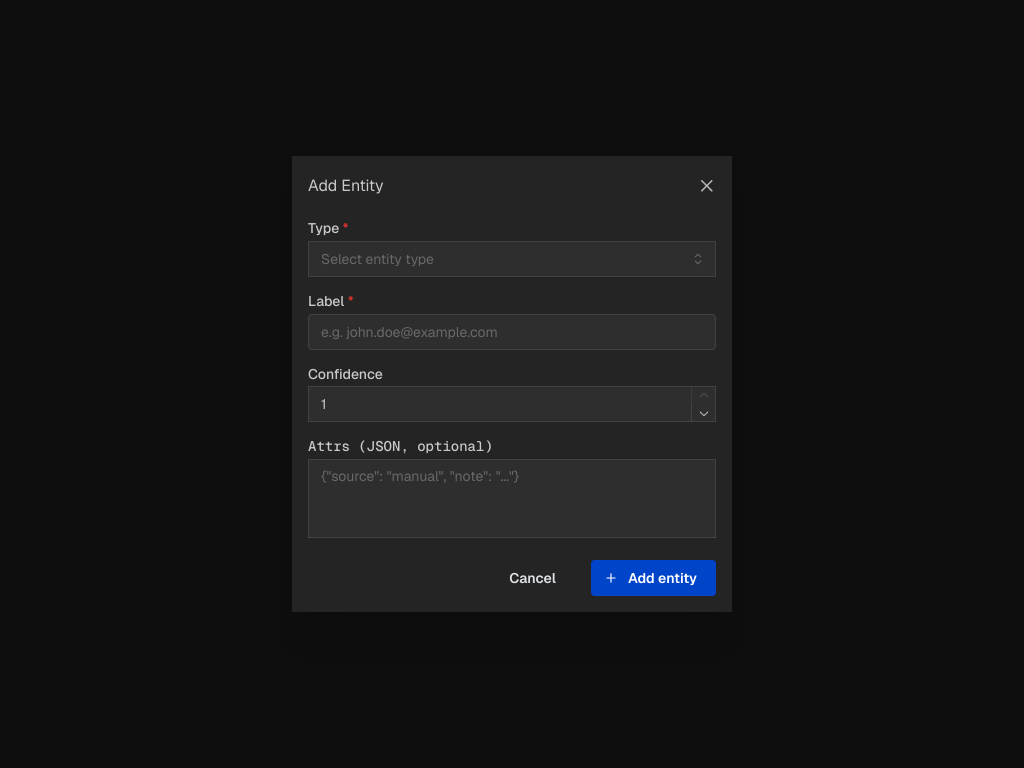
Test: EntityCreateModal › shows validation error when type not selected
# Fill label but no type
In the field labelled "Label *": (512, 332) x1=308 y1=314 x2=716 y2=350, type "test label"
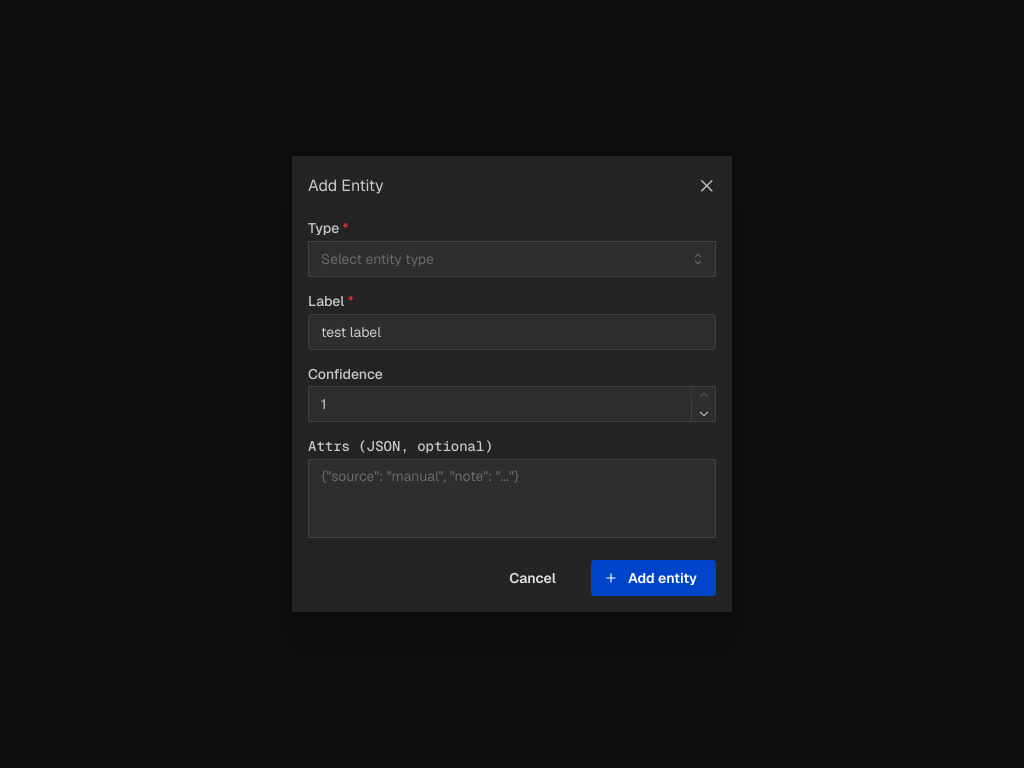
Click the button "Add entity": (653, 578) x1=591 y1=560 x2=716 y2=596
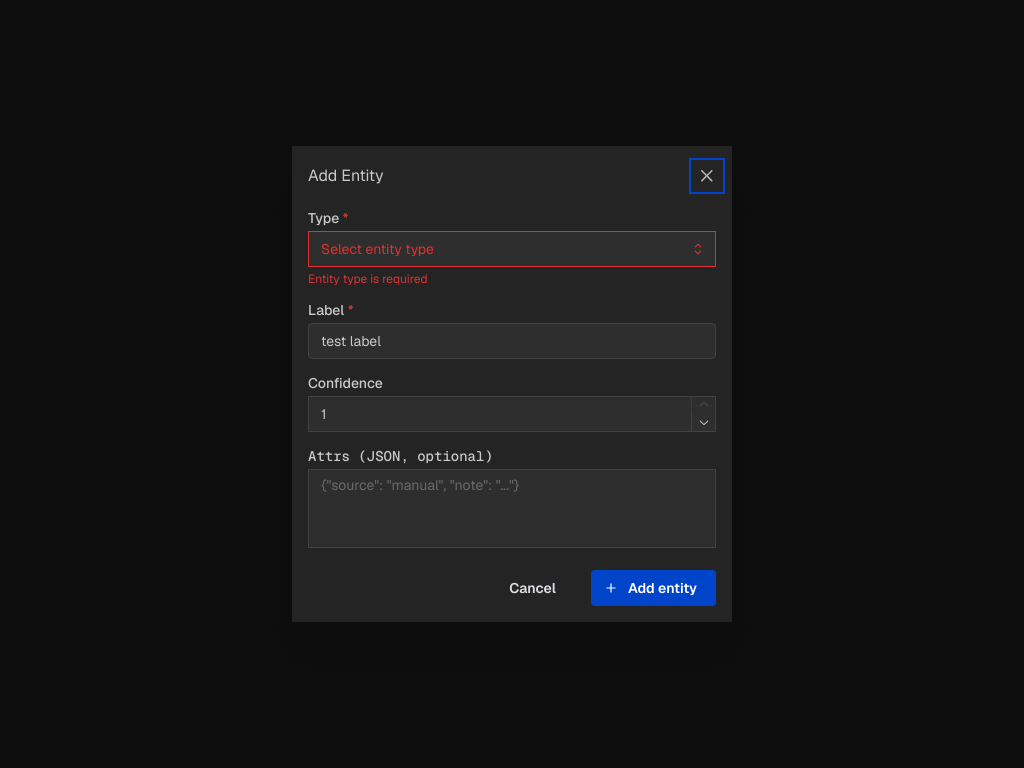
Expected: the text "Entity type is required" is shown, x1=308 y1=271 x2=428 y2=287
